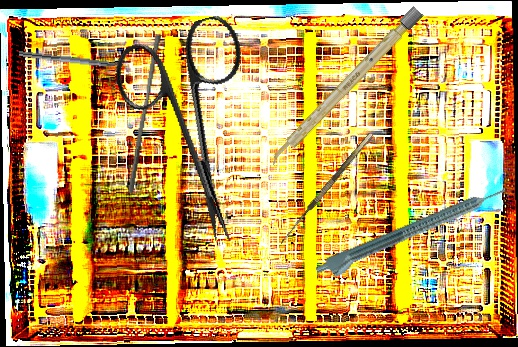Chopper: (17, 51, 133, 76)
Handpiece: (313, 182, 512, 286)
Hook Surgical: (277, 132, 380, 250)
Iris Scissors: (107, 11, 288, 259)
Pusher: (127, 33, 162, 195)
Scalpel Handle: (266, 5, 424, 169)
